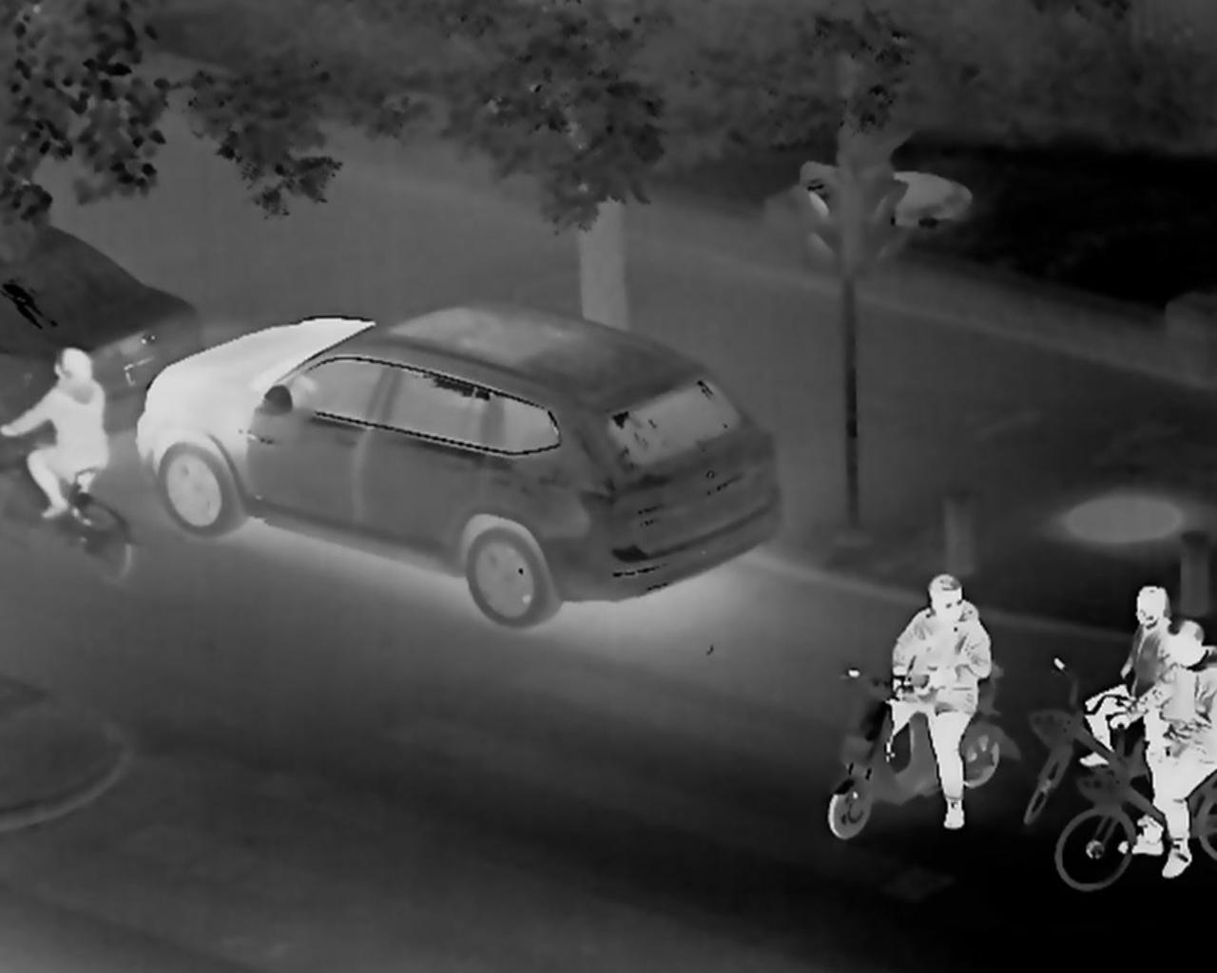person: (1100, 615, 1215, 882), (879, 573, 994, 832), (1071, 581, 1162, 826), (2, 335, 111, 521)
